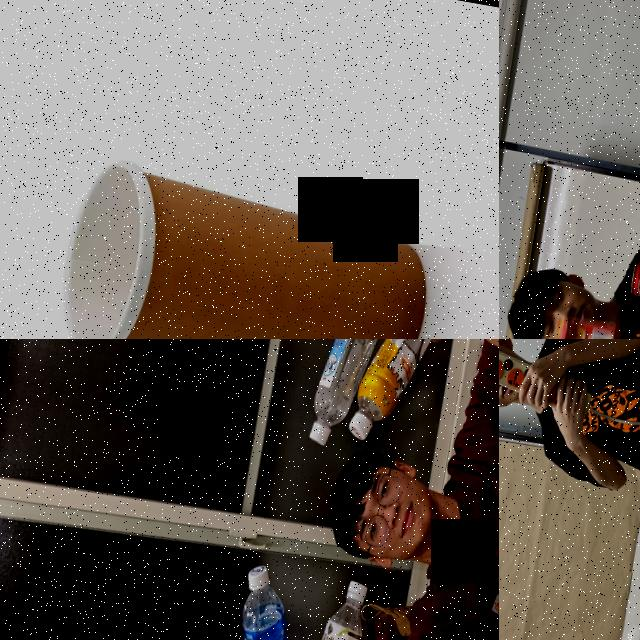bottle: (344, 339, 457, 454), (306, 339, 406, 457), (216, 559, 321, 640), (282, 569, 375, 640)
cup: (52, 152, 448, 339)
